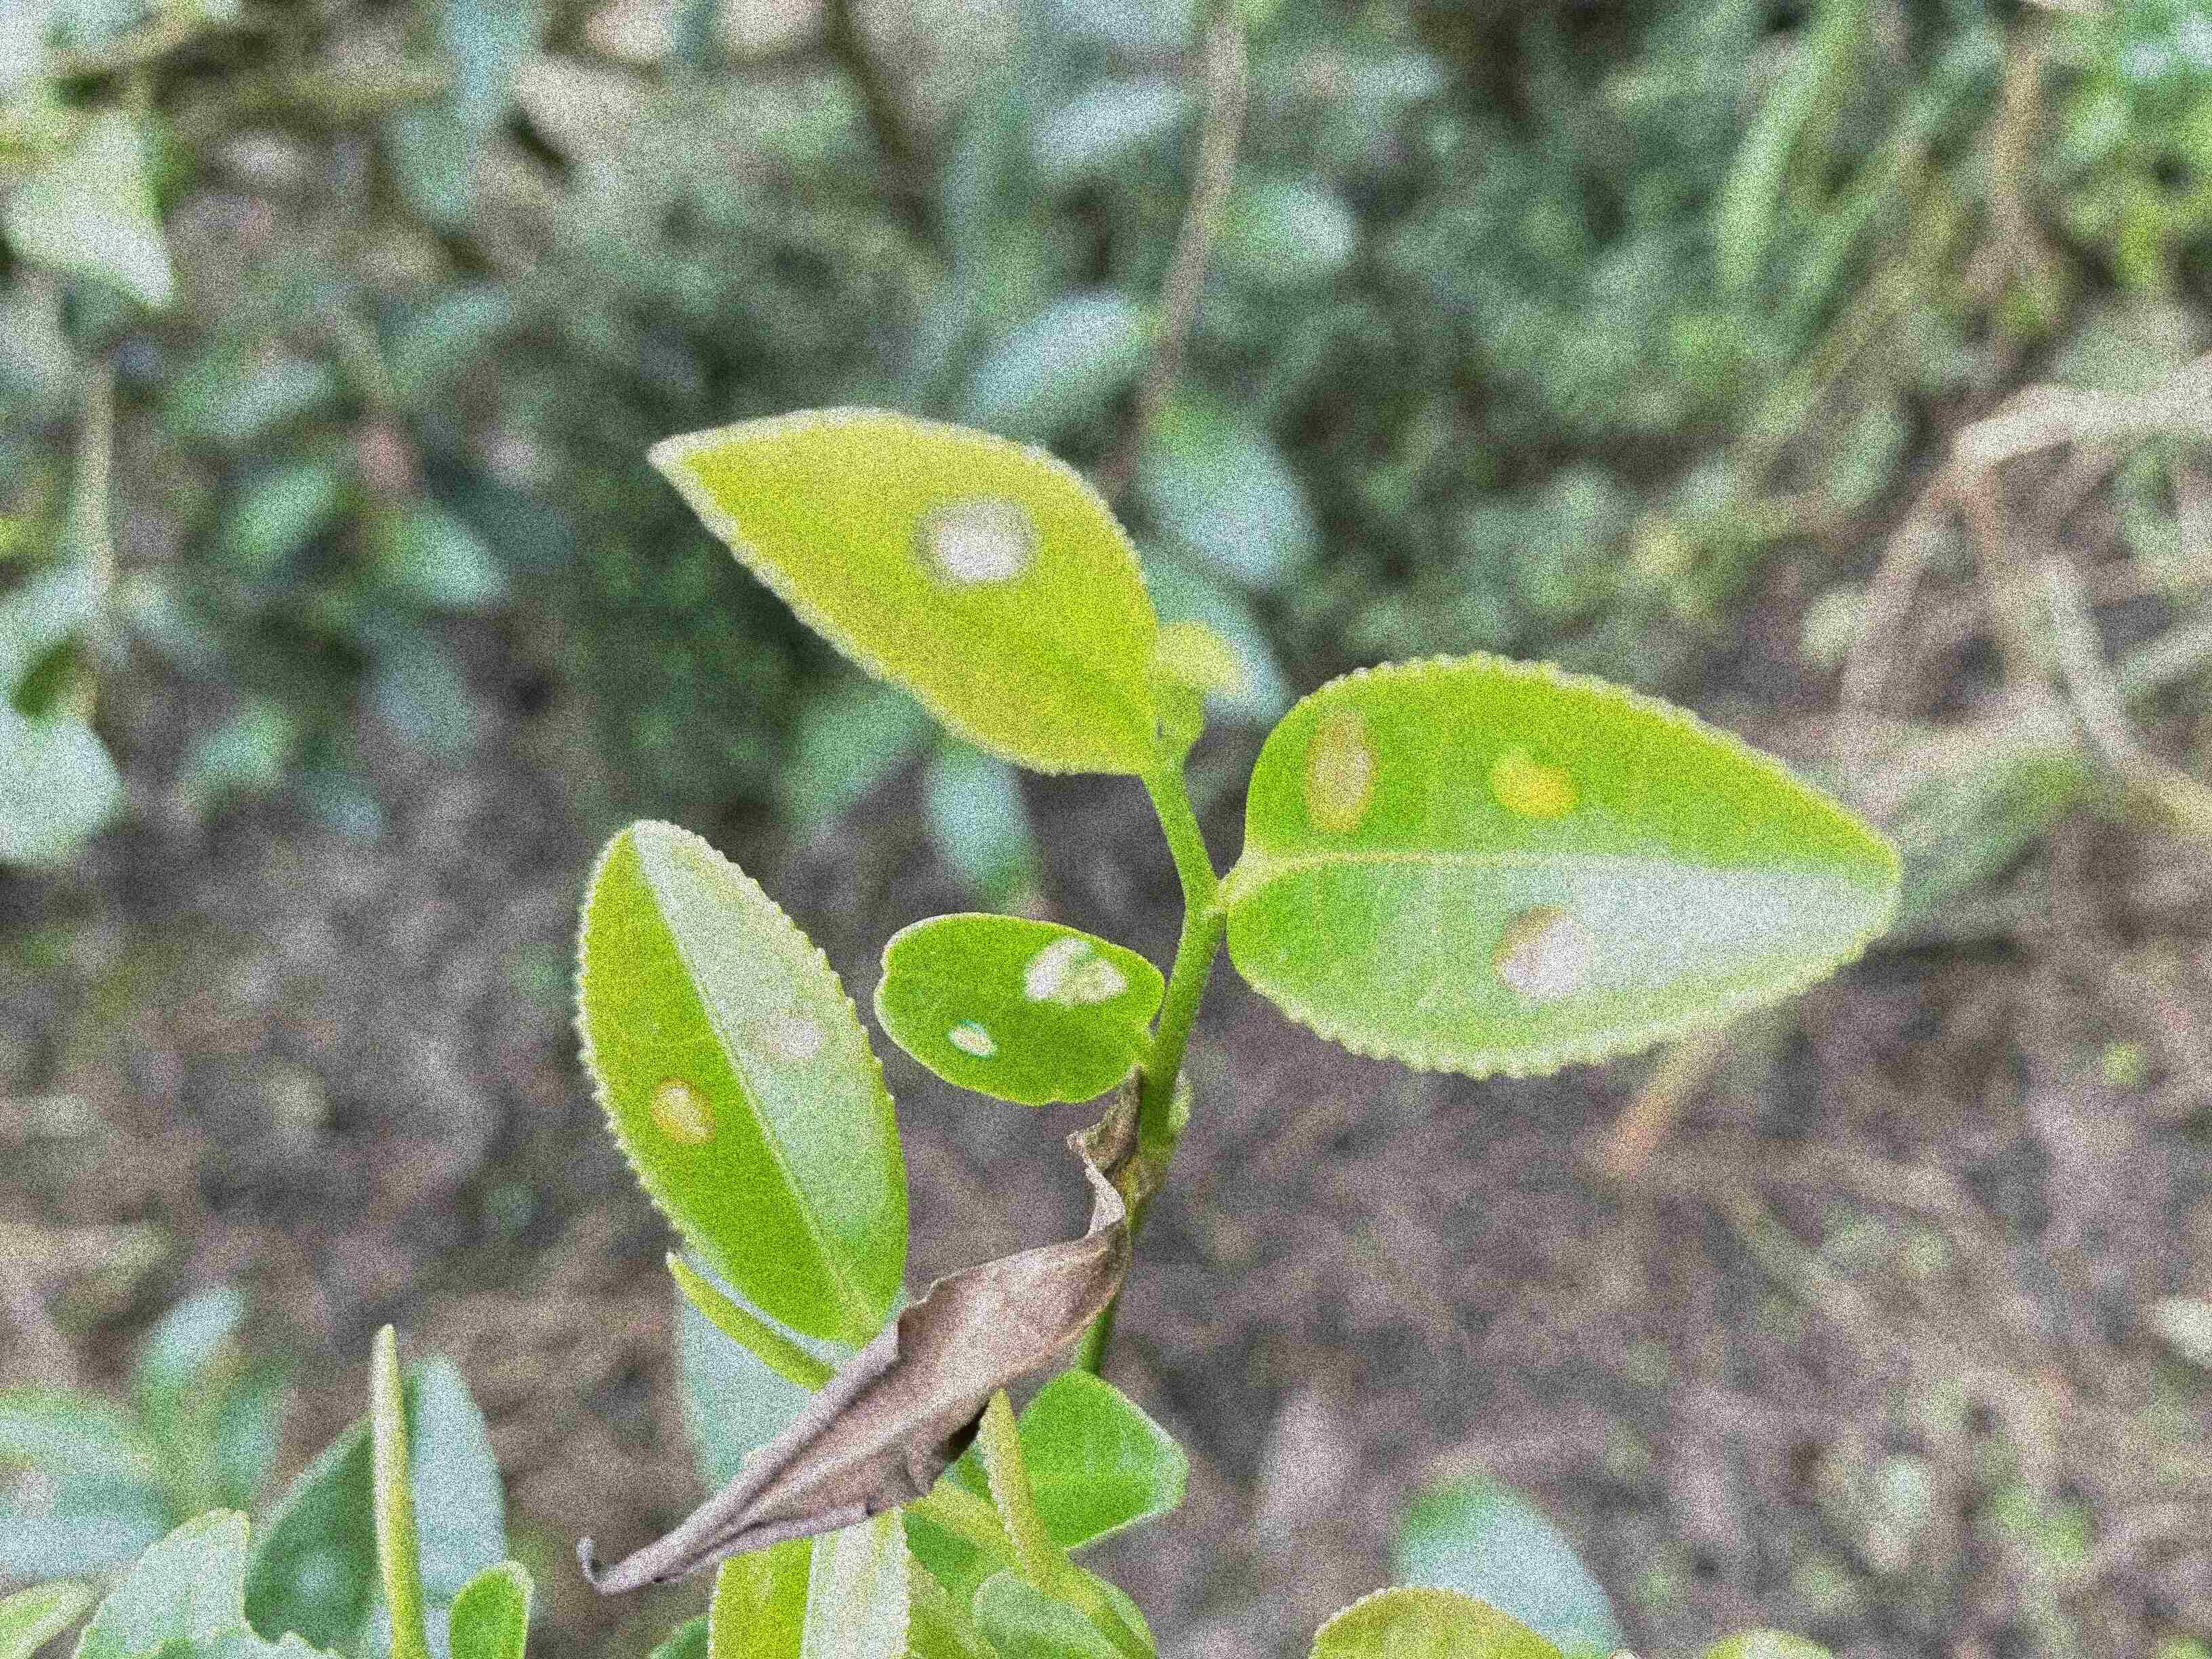chabing_high: (1228, 655, 1900, 1080), (566, 810, 909, 1345), (871, 910, 1169, 1107)
chabing_low: (648, 406, 1163, 772)
